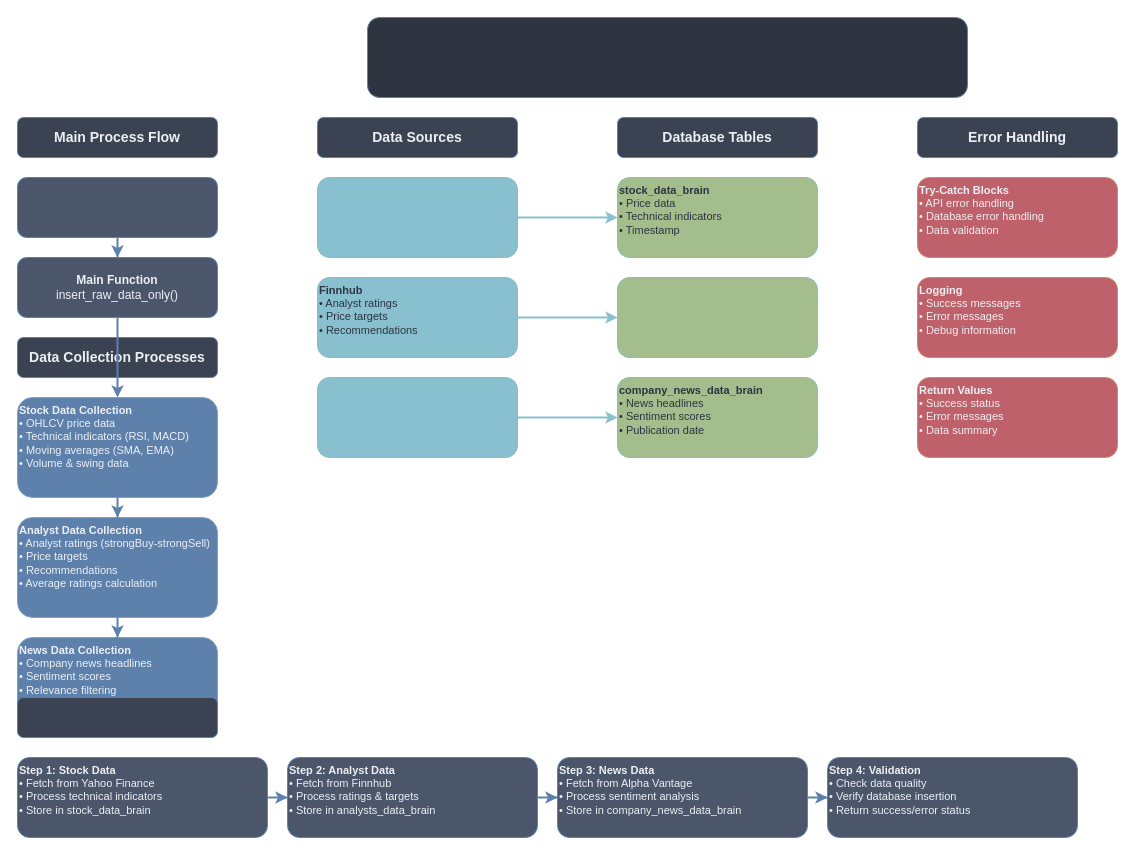
Image size: 1135x855. Some labels were removed from this diagram. The shapes that lost their labels are listed below. From the top down, each one's centre as x and y in pixels, then its label:
At (x=667, y=57): "Run Raw Data Only Process Data Collection and Storage Pipeline".
At (x=117, y=207): "Entry Point run_raw_data_only(ticker)".
At (x=417, y=217): "Yahoo Finance • Stock price data • Technical indicators • Historical data".
At (x=717, y=317): "analysts_data_brain • Analyst ratings • Price targets • Recommendations".
At (x=417, y=417): "Alpha Vantage • News sentiment • Company news • Market sentiment".
At (x=117, y=717): "Process Flow Details".
